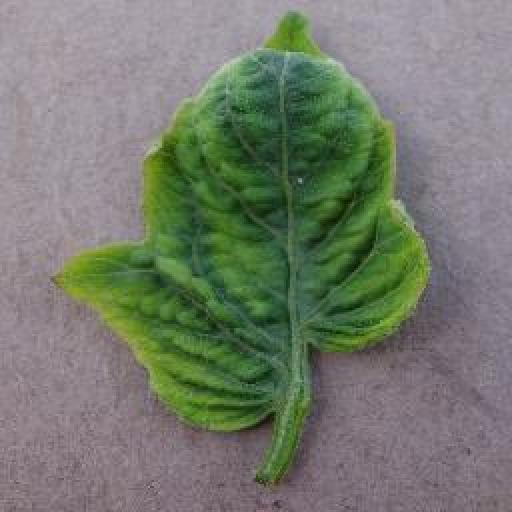disease_tomato: (52, 8, 431, 431)
